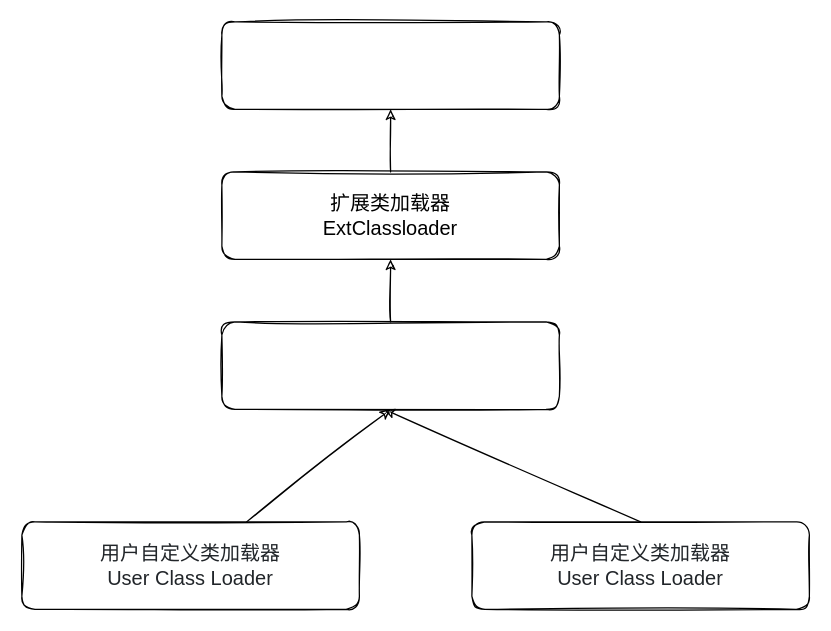
This 831x631 diagram has some shape labels left out. The centre of each missing label's shape, as x and y in pixels:
"启动类加载器 BootstrapClassloader" belongs at [390,65].
"应用类加载器 AppClassloader" belongs at [390,365].
